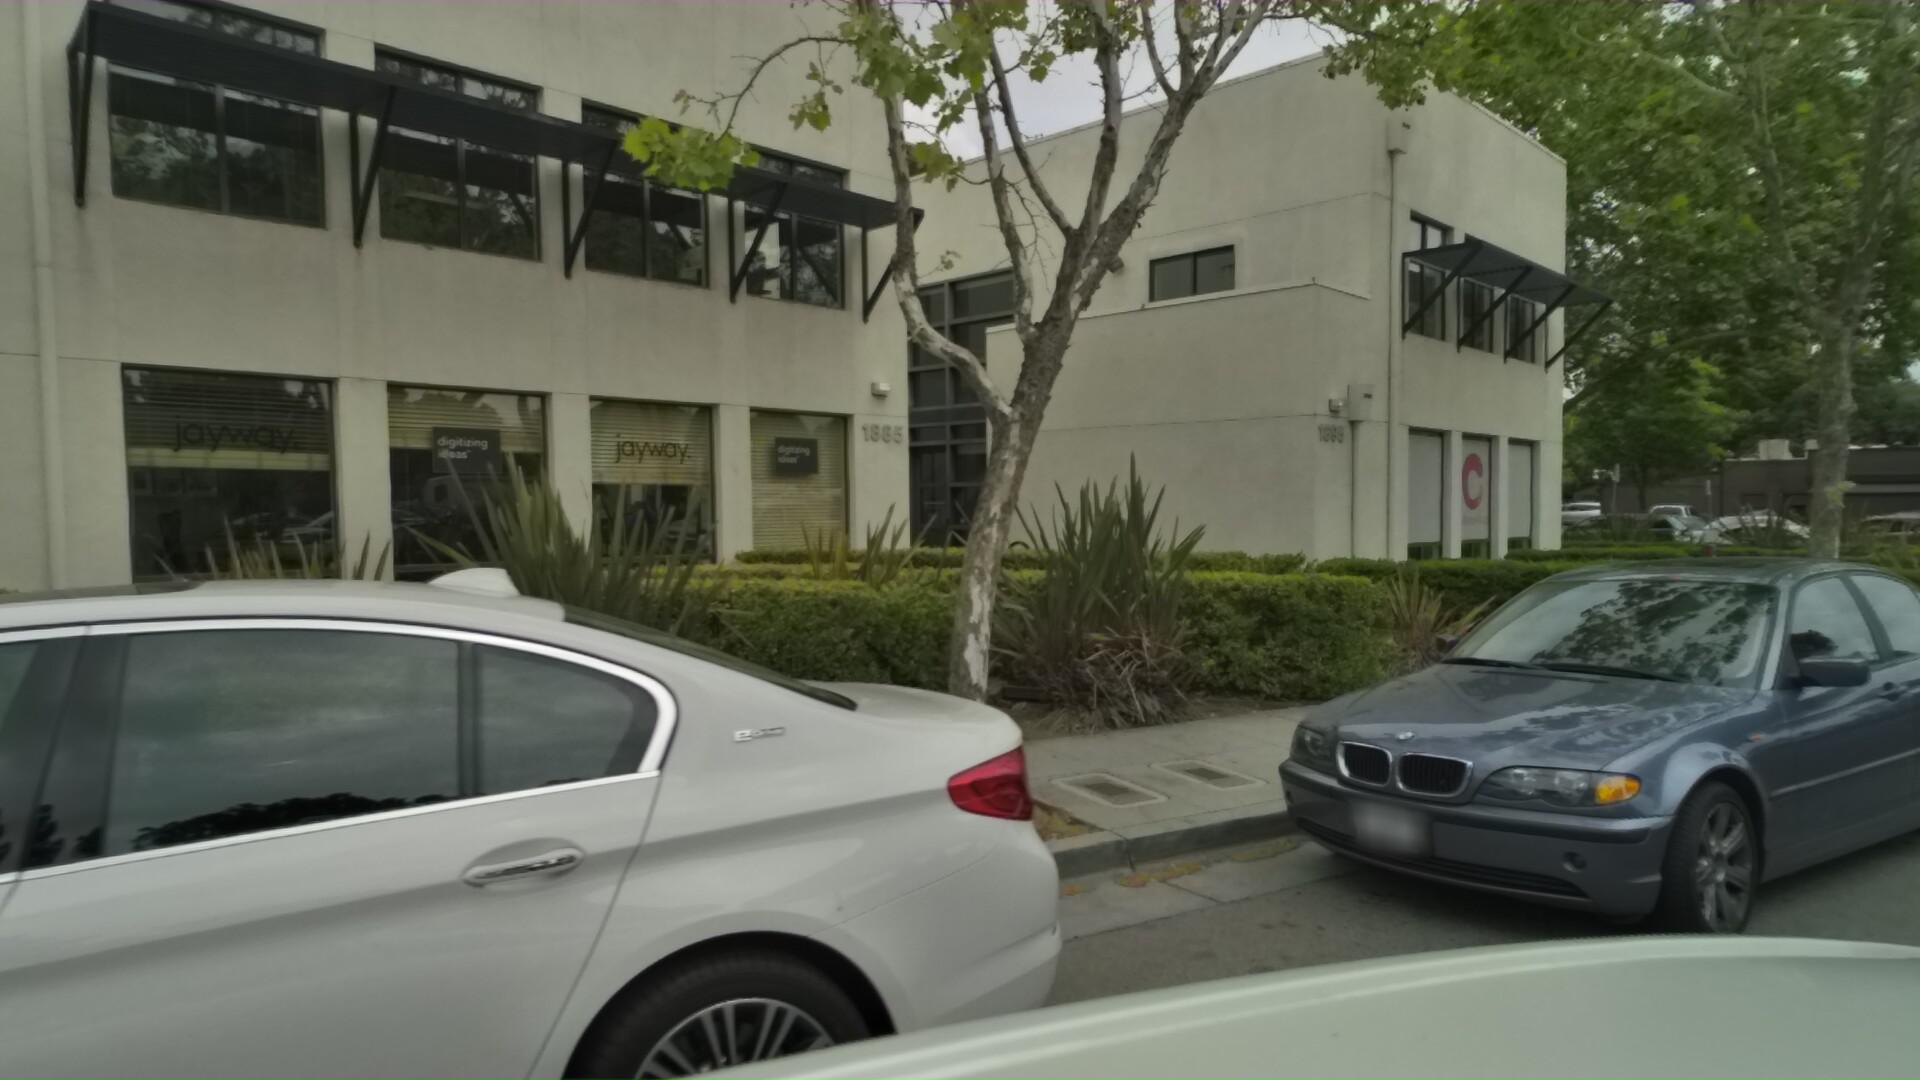car: (0, 543, 1325, 1080), (1291, 534, 1920, 1047), (1679, 512, 1920, 588), (1538, 502, 1714, 567), (1784, 505, 1920, 578)
